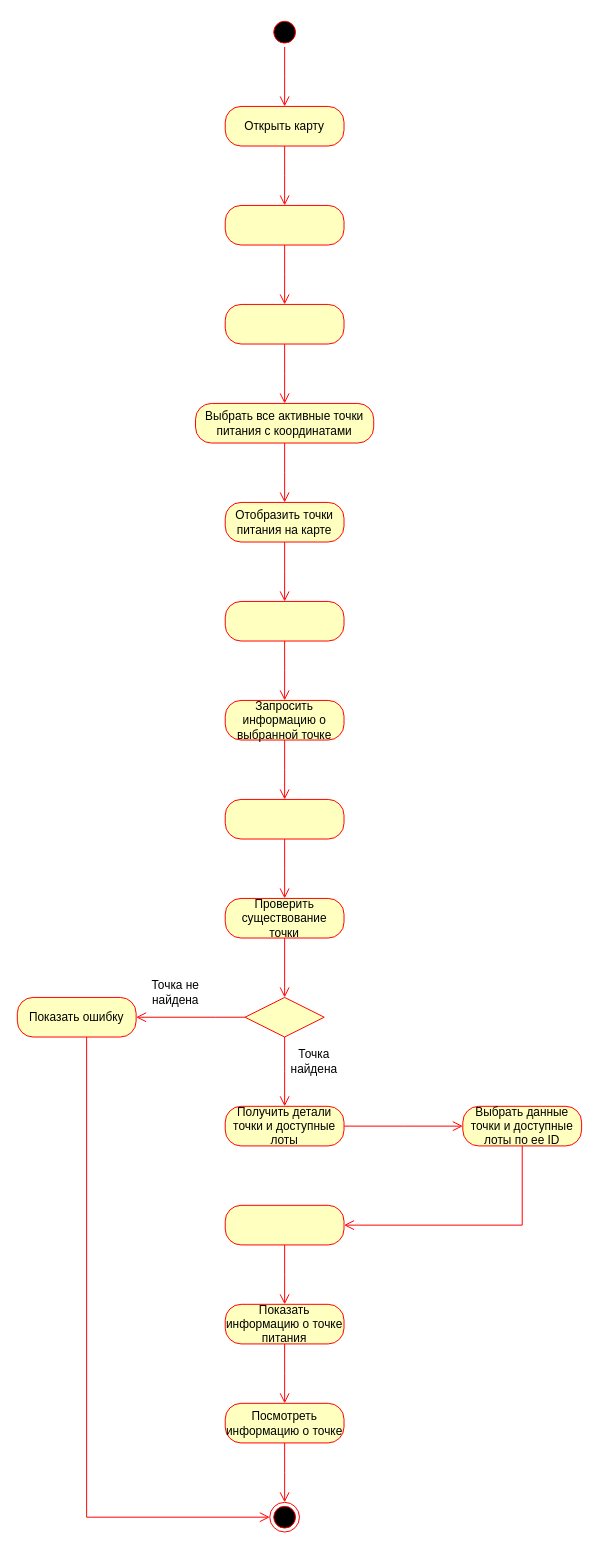
Image size: 599x1549. Some labels were removed from this diagram. The box of each missing label's shape, as (x1, y1, x2, y2) in pixels:
Вернуть данные о точке: (224, 1204, 344, 1245)
Выбрать точку питания на карте: (224, 600, 344, 641)
Запросить отображение точек питания: (224, 204, 344, 245)
Получить информацию о выбранной точке: (224, 798, 344, 839)
Получить список точек: (224, 303, 344, 344)
